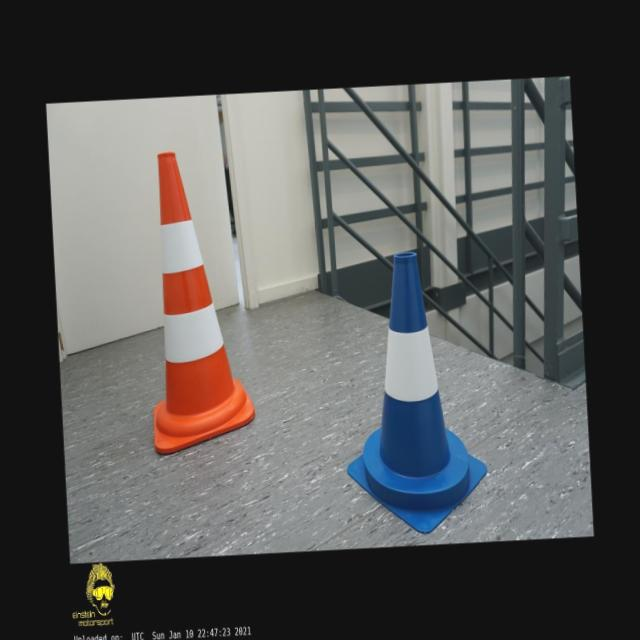blue_cone: (336, 249, 491, 538)
large_orange_cone: (140, 148, 258, 456)
